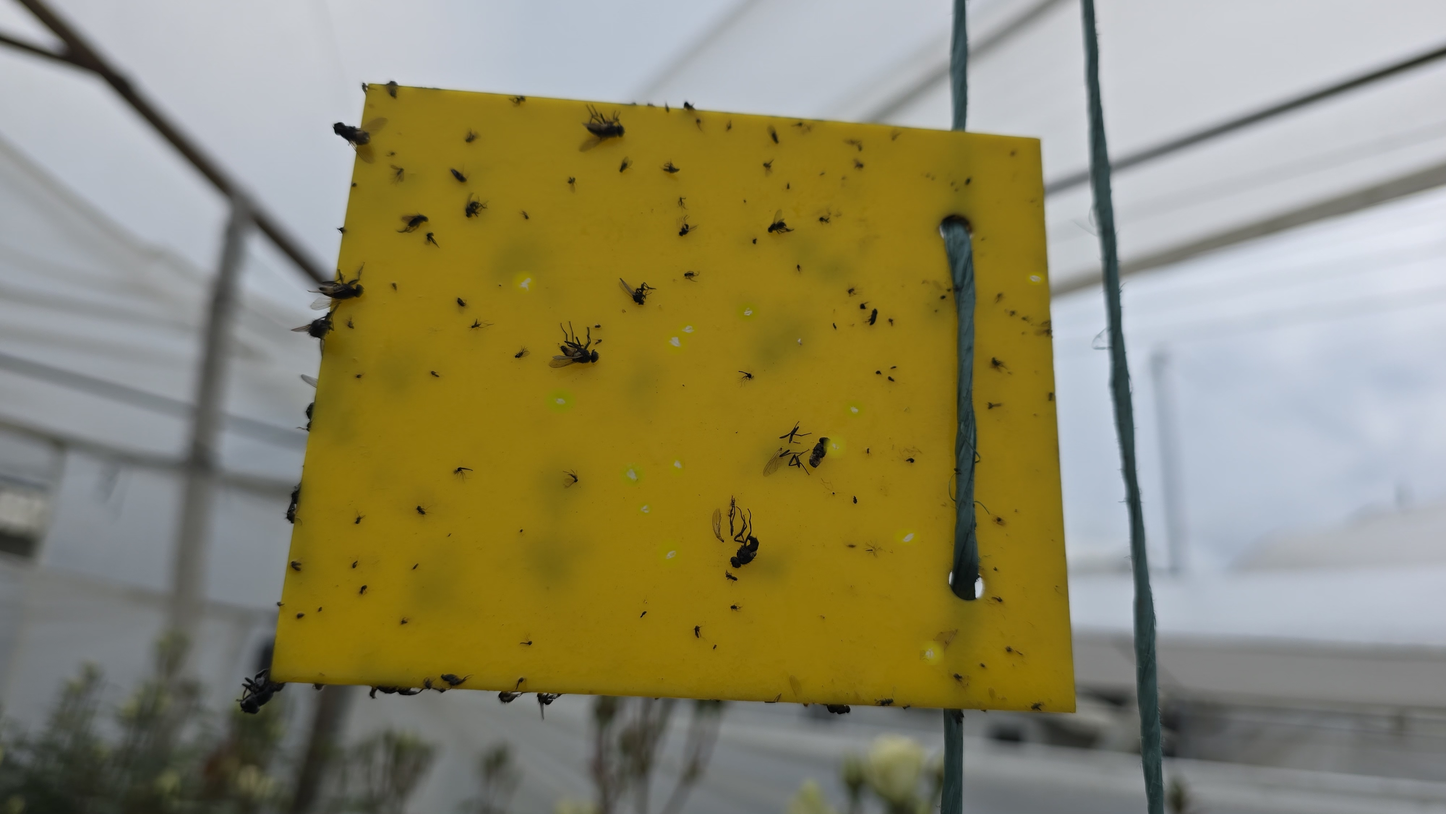WF: (548, 391, 572, 410), (660, 543, 679, 564), (623, 466, 642, 483), (667, 333, 684, 351), (923, 644, 940, 661), (516, 274, 532, 291), (827, 438, 843, 454), (739, 304, 756, 319), (897, 531, 916, 543), (846, 402, 862, 416), (671, 458, 683, 474), (680, 324, 695, 334), (1028, 273, 1042, 283), (638, 504, 650, 514), (797, 338, 801, 344)
